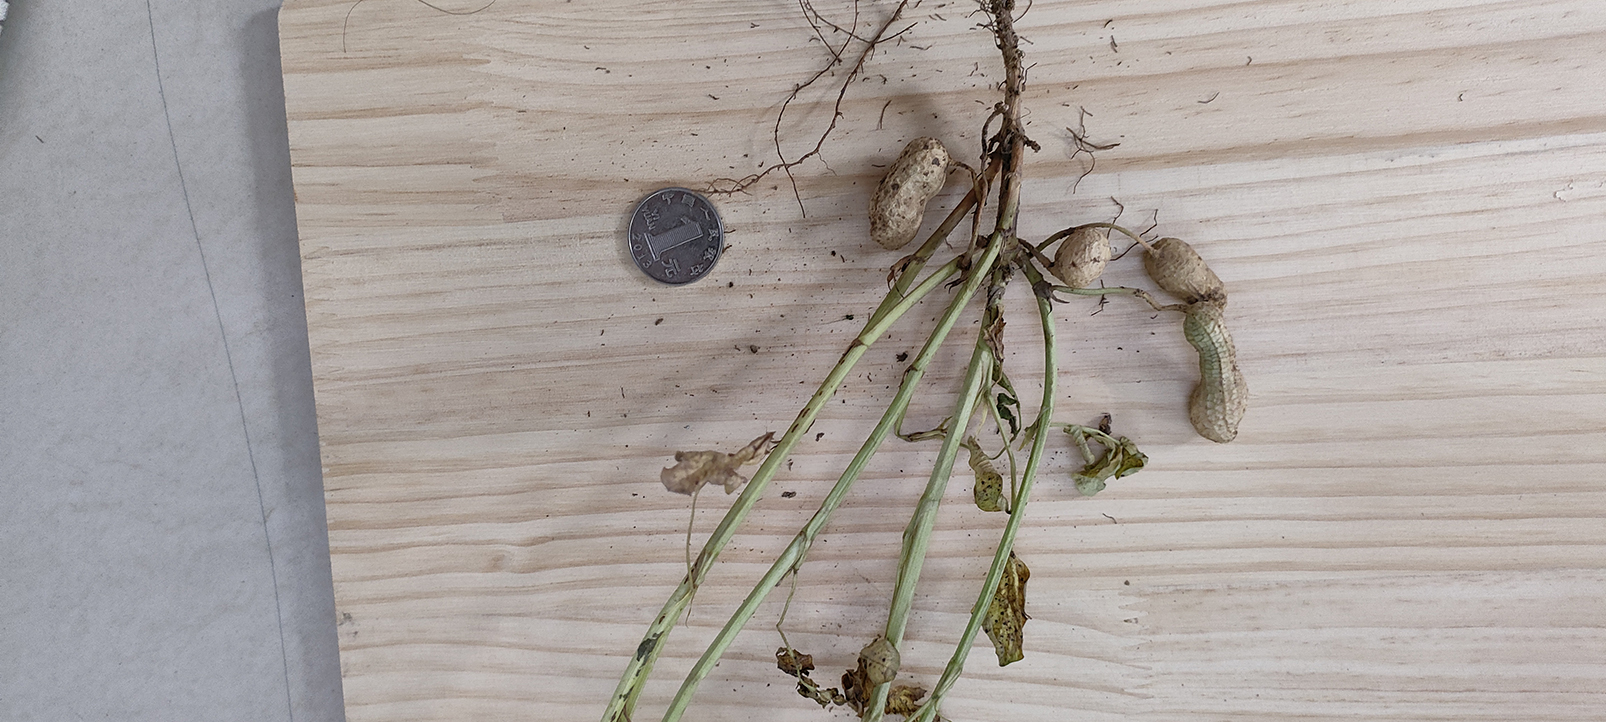h: (1183, 304, 1250, 444), (868, 136, 948, 248), (1145, 240, 1228, 307), (1055, 228, 1111, 292)
